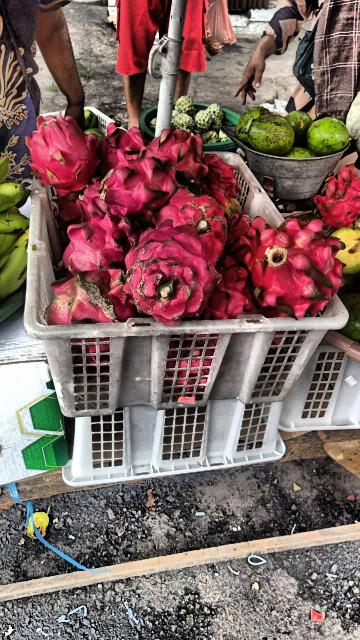buah-naga-belum-matang: (41, 274, 141, 346)
buah-naga-matang: (241, 220, 348, 310), (130, 222, 220, 320), (22, 112, 96, 194), (161, 188, 233, 252), (97, 156, 175, 214), (53, 217, 135, 271), (152, 120, 206, 182), (320, 163, 360, 227), (100, 123, 150, 169), (200, 153, 243, 195)
